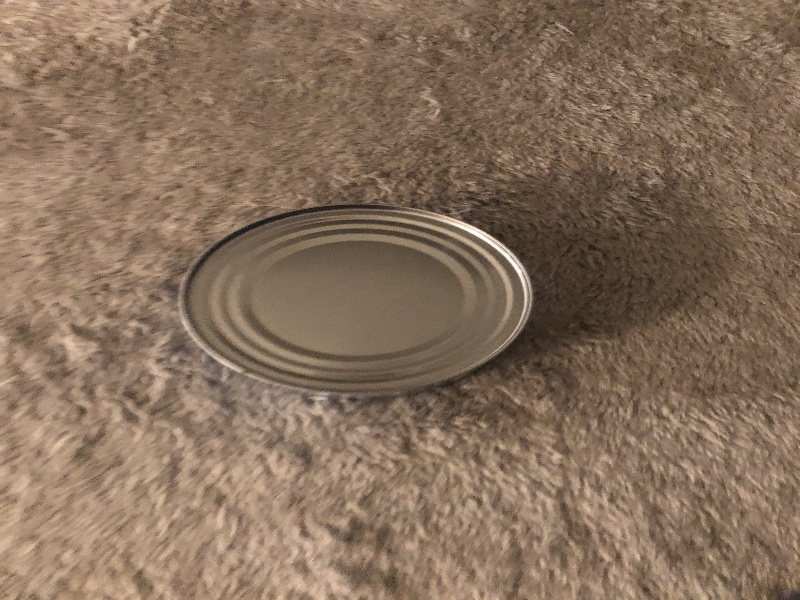metal: (171, 199, 539, 405)
